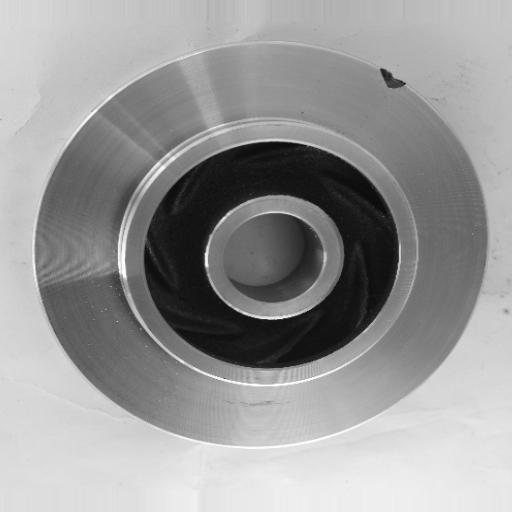crack: (369, 59, 419, 99)
unpolished_casting: (33, 39, 491, 450)
